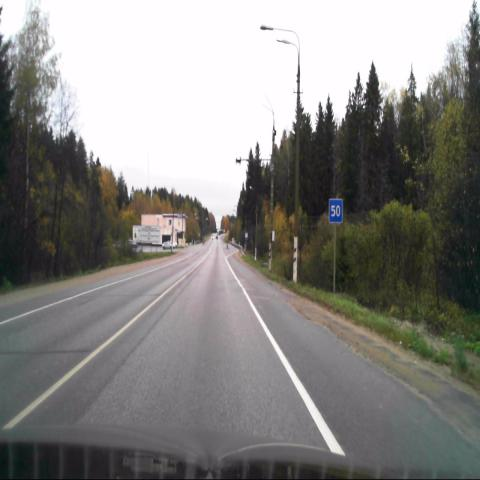6_2: (328, 199, 342, 222)
